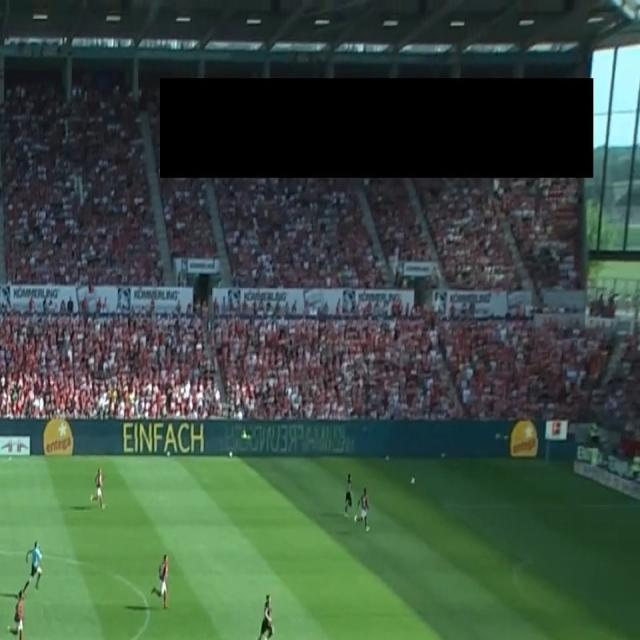ball: (411, 476, 415, 484)
